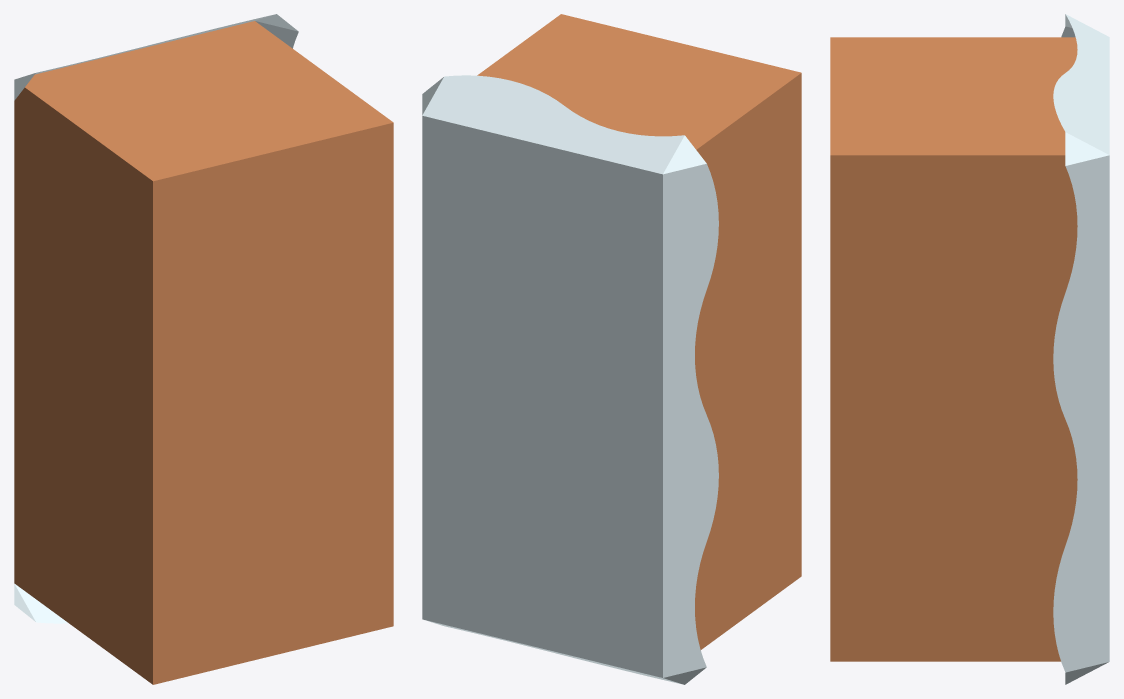
Rendered from blockSnowLong.obj.
3 renders of one model, left to right at view 1: azimuth 30°, elevation 25°; view 2: azimuth 150°, elevation 25°; view 3: azimuth 270°, elevation 25°, orthographic.
Visible parts, largest first — view 1: blockSnowLong; view 2: blockSnowLong; view 3: blockSnowLong.
Boxes of the visible parts, x1=… form: blockSnowLong: x1=14, y1=14, x2=393, y2=684; blockSnowLong: x1=422, y1=14, x2=801, y2=684; blockSnowLong: x1=830, y1=14, x2=1109, y2=684.
Bounding box in the file's own units: 1.23 × 2.23 × 1.
